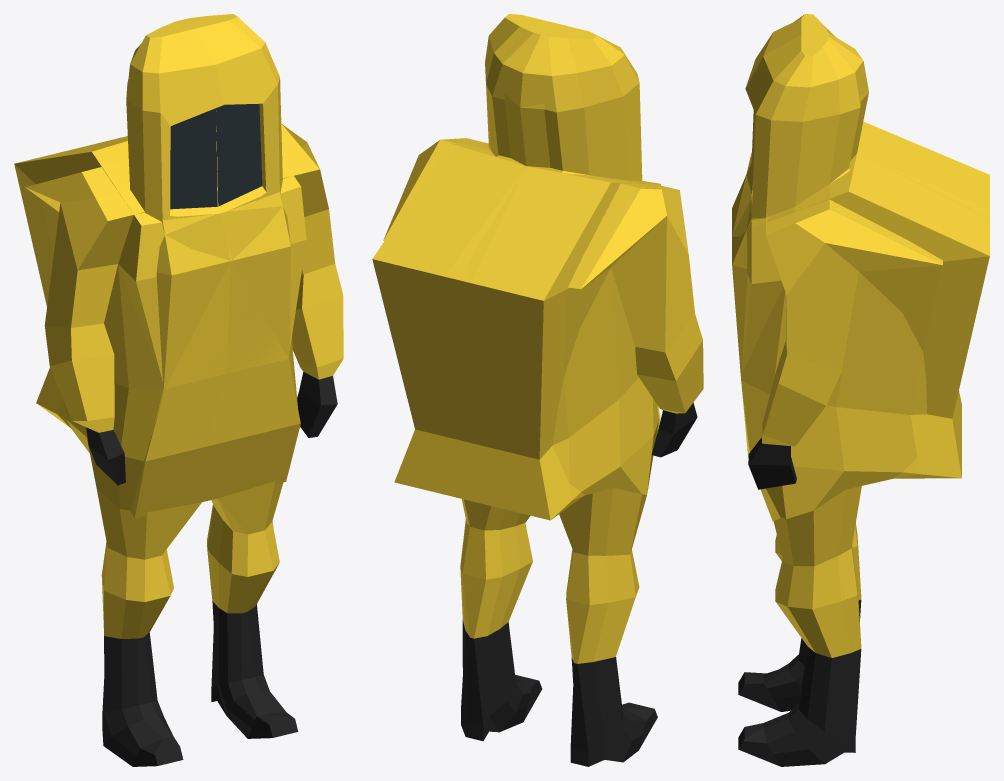
File: biohazardsuit.glb
3 renders of one model, left to right at view 1: azimuth 30°, elevation 25°; view 2: azimuth 150°, elevation 25°; view 3: azimuth 270°, elevation 25°, orthographic. The views are drawn at different scales.
Visible parts, largest first — view 1: suit; view 2: suit; view 3: suit.
Part boxes in pixels (left/top/right/bottom): suit: left=14, top=14, right=343, bottom=766; suit: left=372, top=14, right=703, bottom=766; suit: left=732, top=14, right=989, bottom=766.
Size of what is drawn, in the model's own units: 1.12 by 2.82 by 0.9444.
2 materials, 2 textured.
